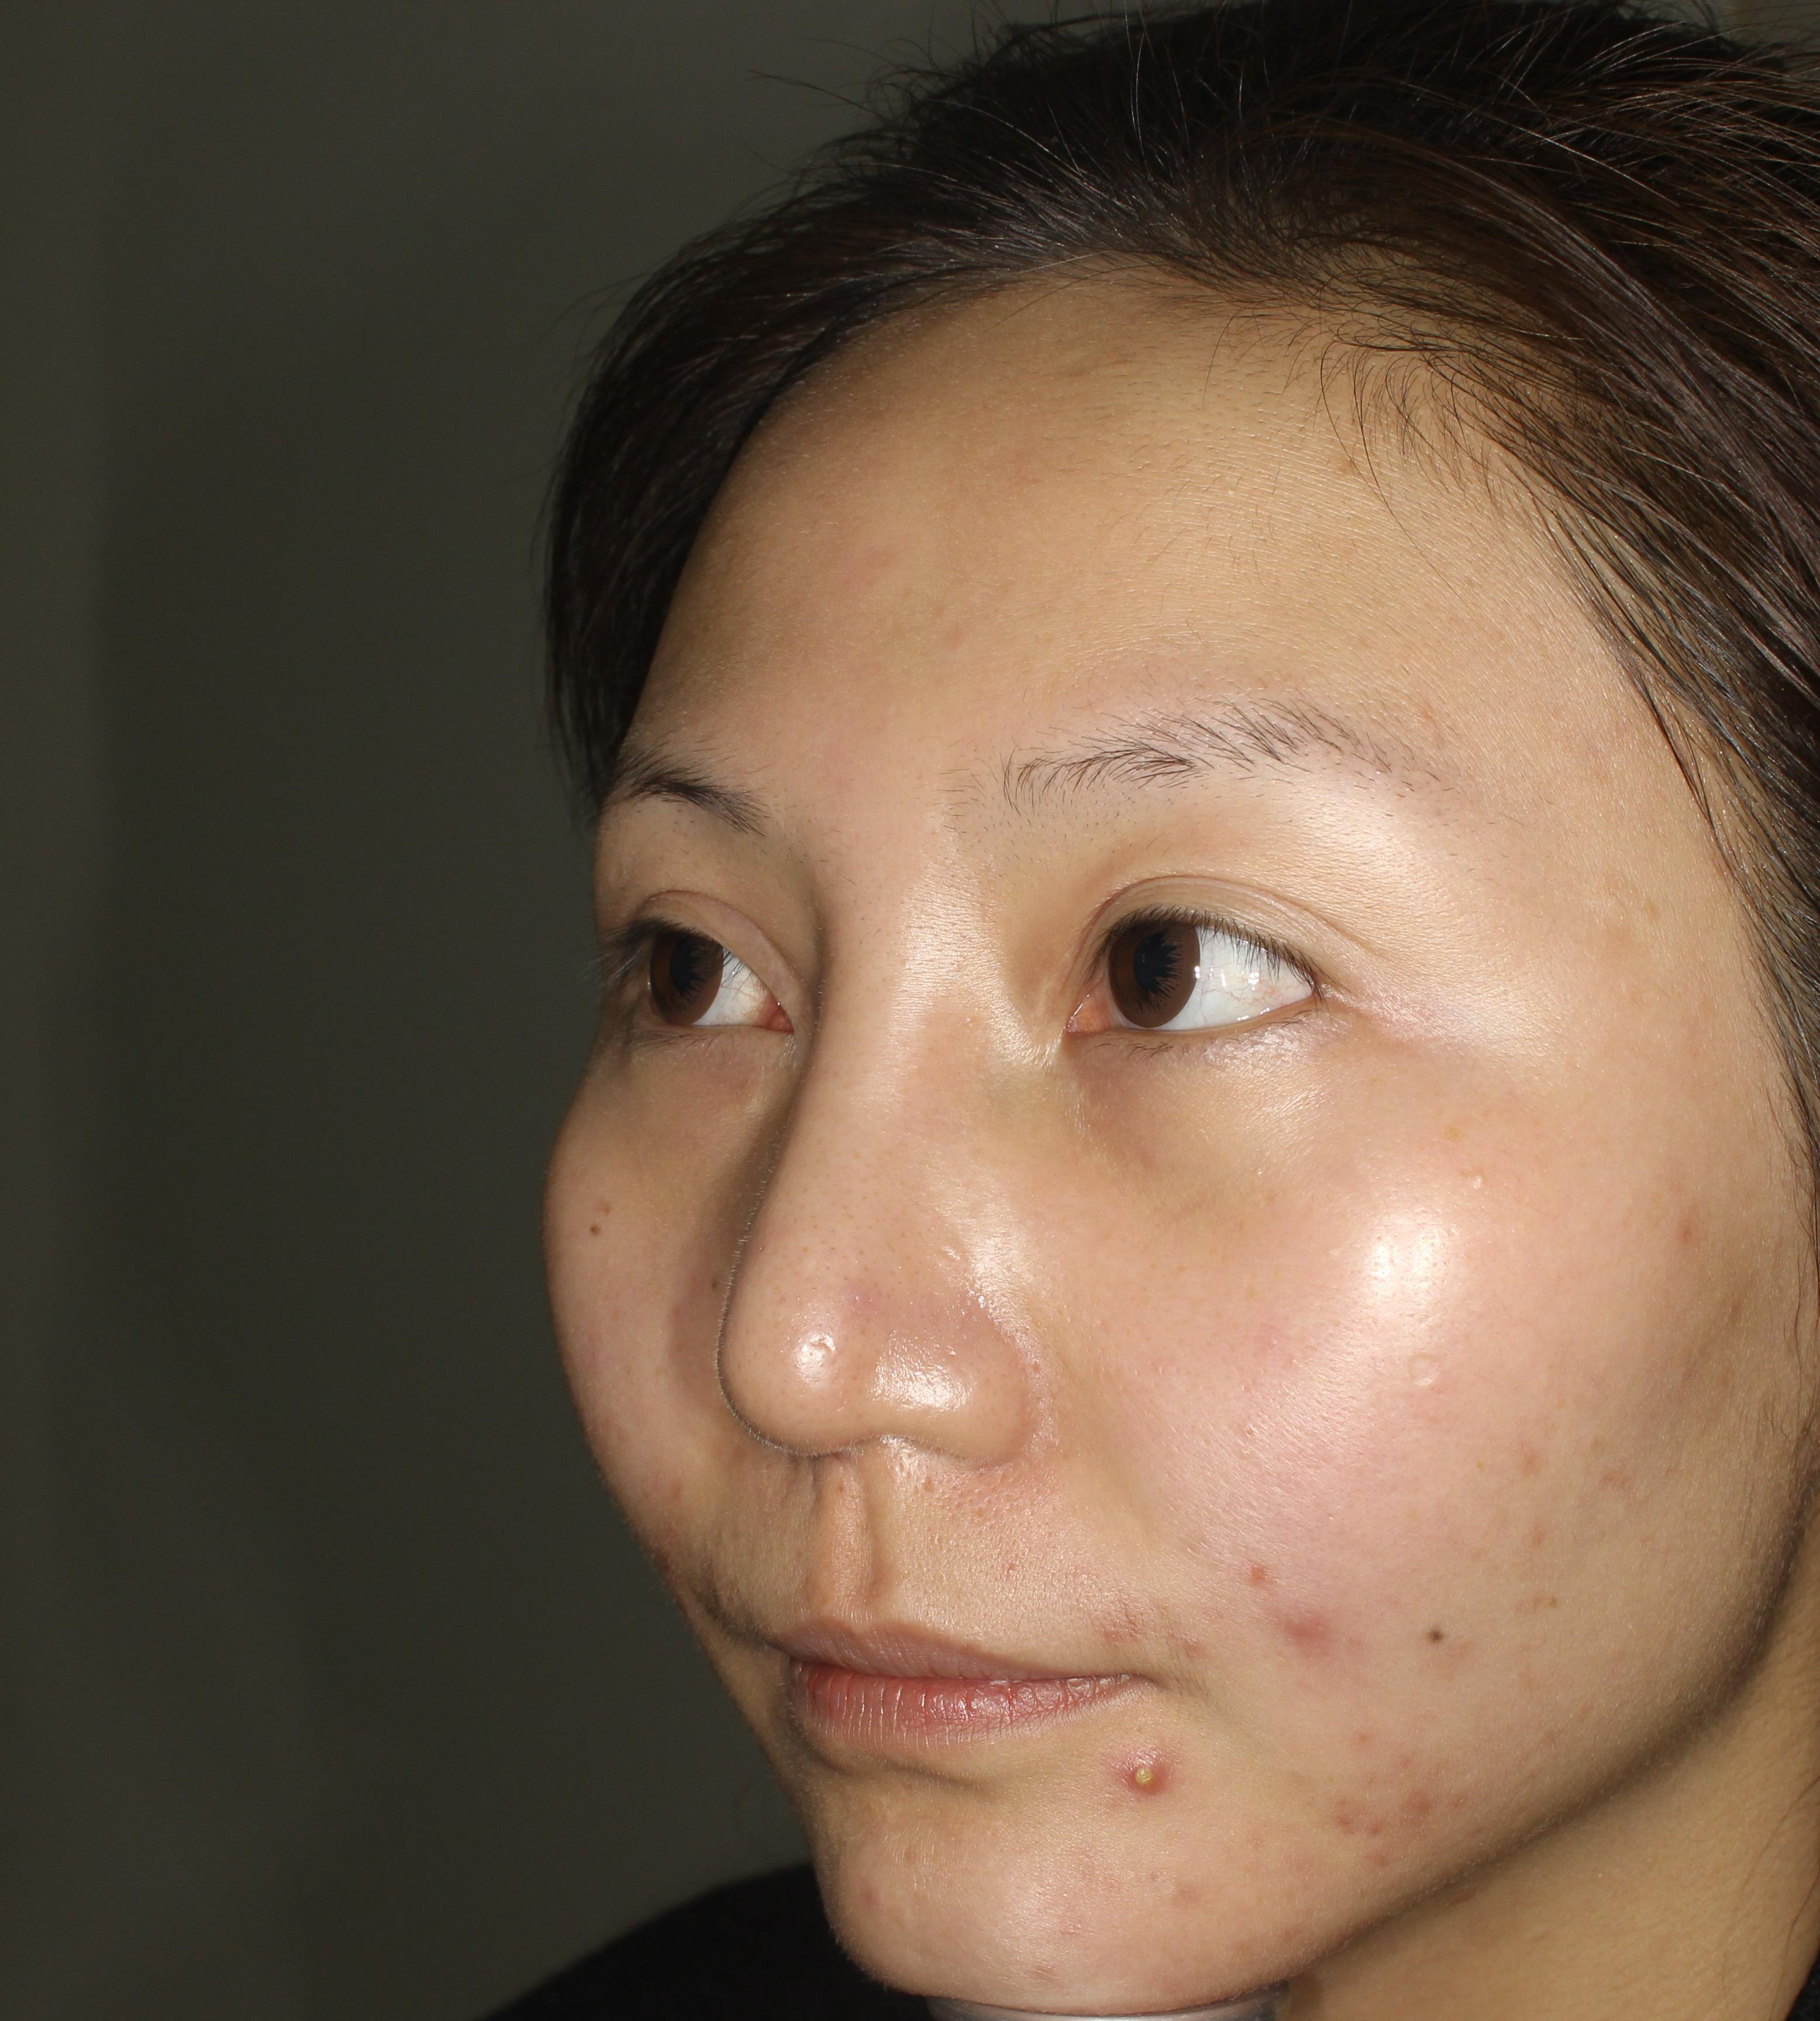fore: (1288, 1586, 1363, 1684), (1094, 1577, 1193, 1652), (1094, 1745, 1175, 1835), (1193, 1536, 1288, 1598), (1369, 1751, 1441, 1826), (1332, 1782, 1354, 1835)
